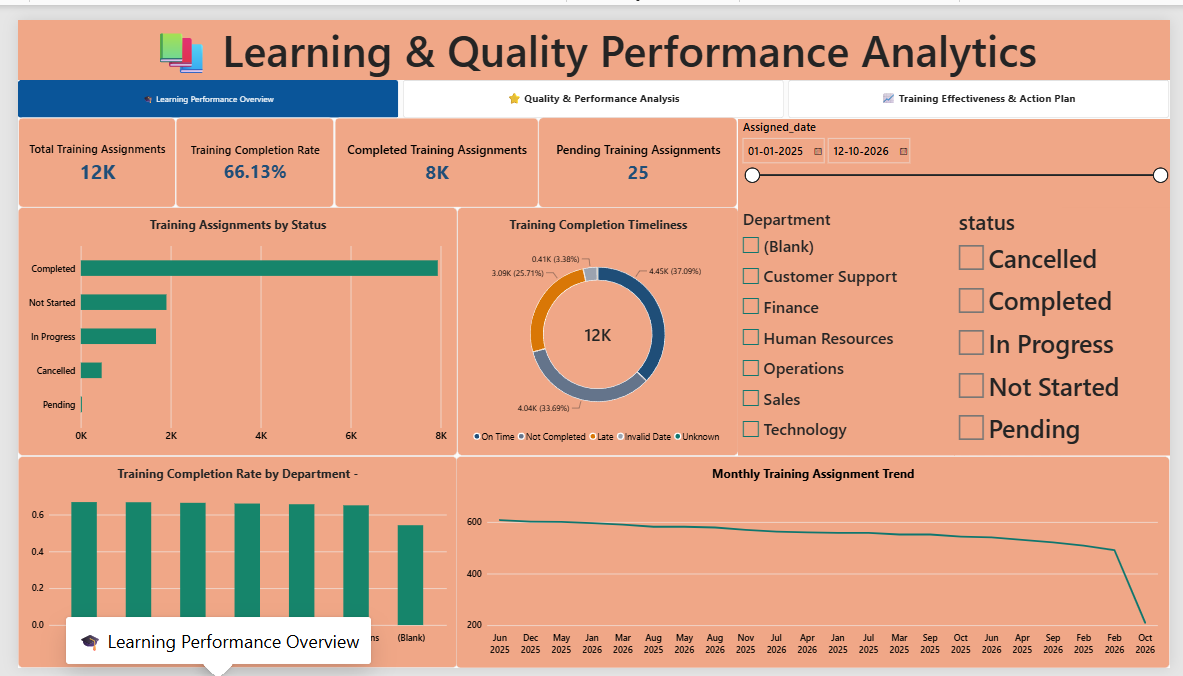

The dashboard page shown, as its layout file describes it:
{"tool":"powerbi","page":{"name":"🎓 Learning Performance Overview","canvas":[1920,1080],"ordinal":0},"visuals":[{"type":"textbox","box":[0,0,1920.5,100],"z":0},{"type":"pageNavigator","box":[0,100,1920.5,63.6],"z":1000},{"type":"cardVisual","title":"📋 Total Training Assignments","fields":{"Data":["Clean_Assessments.Total Training Assignments"]},"box":[0,163.6,263.6,150],"z":2000},{"type":"cardVisual","fields":{"Data":["Clean_Assessments.Training Completion Rate"]},"box":[263.6,163.6,264,150],"z":3000},{"type":"cardVisual","fields":{"Data":["Clean_Assessments.Completed Training Assignments"]},"box":[527.3,163.6,340.9,150],"z":4000},{"type":"cardVisual","fields":{"Data":["Clean_Assessments.Pending Training Assignments"]},"box":[868.2,163.6,331.8,150],"z":5000},{"type":"slicer","fields":{"Values":["Clean_Training.assigned_date"]},"box":[1200,164,720,150],"z":6000},{"type":"clusteredBarChart","title":"Training Assignments by Status","fields":{"Category":["Clean_Training.status"],"Y":["CountNonNull(Clean_Training.assignment_id)"]},"box":[0,313.6,731.8,413.6],"z":7000},{"type":"donutChart","title":"Training Completion Timeliness","fields":{"Category":["Clean_Training.Training Timeliness"],"Y":["CountNonNull(Clean_Training.assignment_id)"]},"box":[731.8,313.6,468.2,413.6],"z":8000},{"type":"clusteredColumnChart","title":"Training Completion Rate by Department -","fields":{"Category":["Clean_Employees.department"],"Y":["Clean_Assessments.Training Completion Rate"]},"box":[0,727.3,731.8,352.3],"z":9000},{"type":"lineChart","title":"Monthly Training Assignment Trend","fields":{"Category":["Clean_Training.Year-Month"],"Y":["CountNonNull(Clean_Training.assignment_id)"]},"box":[730.5,726.3,1189.5,352.6],"z":10000},{"type":"slicer","fields":{"Values":["Clean_Employees.department"]},"box":[1200,313.2,360.5,413.2],"z":11000},{"type":"slicer","fields":{"Values":["Clean_Training.status"]},"box":[1560.5,313.2,360.5,413.2],"z":12000}]}

Visuals, with their boxes on the page's 1920x1080 design canvas (x1, y1, x2, y2). These are canvas units, not pixel positions in the 1183x676 screenshot, which may show the page scaled, cropped or inside an application window:
textbox: box(0, 0, 1920, 100)
pageNavigator: box(0, 100, 1920, 164)
"📋 Total Training Assignments" cardVisual: box(0, 164, 264, 314)
cardVisual - Clean_Assessments.Training Completion Rate: box(264, 164, 528, 314)
cardVisual - Clean_Assessments.Completed Training Assignments: box(527, 164, 868, 314)
cardVisual - Clean_Assessments.Pending Training Assignments: box(868, 164, 1200, 314)
slicer - Clean_Training.assigned_date: box(1200, 164, 1920, 314)
"Training Assignments by Status" clusteredBarChart: box(0, 314, 732, 727)
"Training Completion Timeliness" donutChart: box(732, 314, 1200, 727)
"Training Completion Rate by Department -" clusteredColumnChart: box(0, 727, 732, 1080)
"Monthly Training Assignment Trend" lineChart: box(730, 726, 1920, 1079)
slicer - Clean_Employees.department: box(1200, 313, 1560, 726)
slicer - Clean_Training.status: box(1560, 313, 1921, 726)
